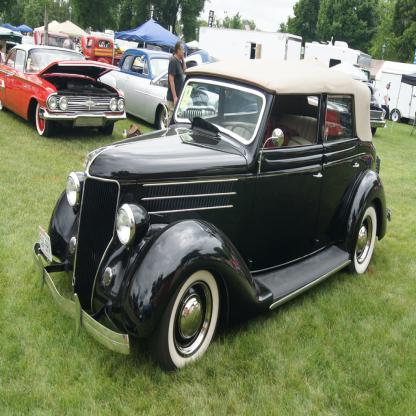Car: (0, 28, 394, 374)
